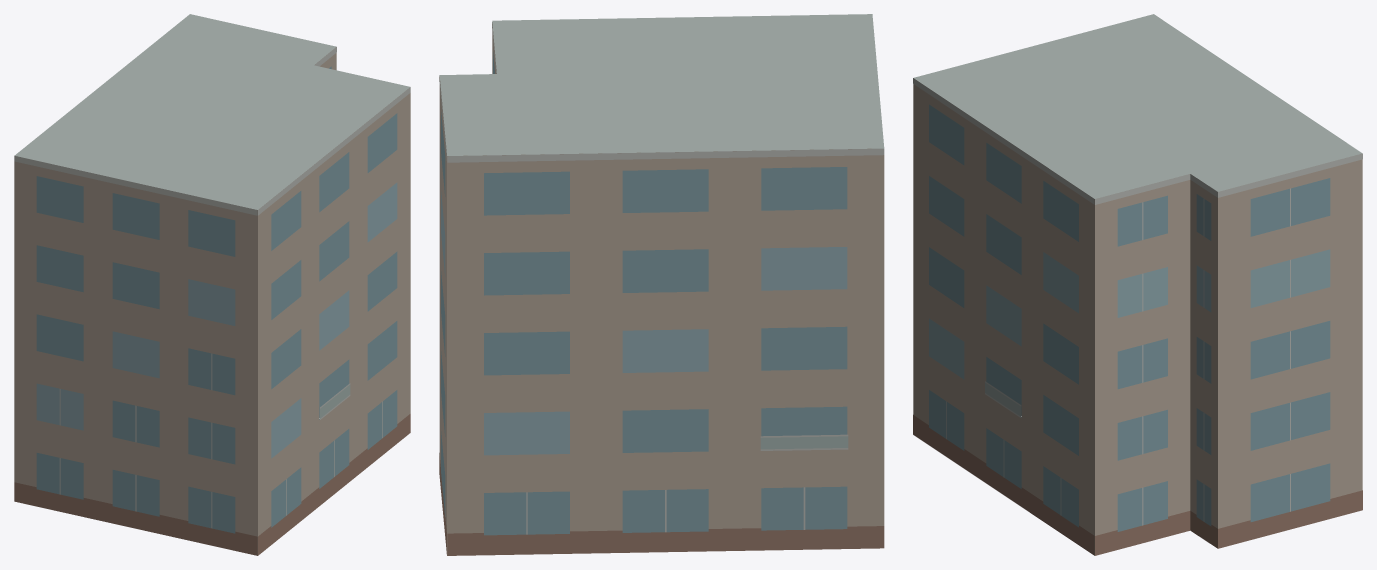
File: survey-upis-32719686.glb
The picture shows the model from 3 angles, left to right: view 1: azimuth 30°, elevation 25°; view 2: azimuth 150°, elevation 25°; view 3: azimuth 270°, elevation 25°; orthographic projection. The views are drawn at different scales.
Visible parts, largest first — view 1: survey-upis-32719686.tmp; view 2: survey-upis-32719686.tmp; view 3: survey-upis-32719686.tmp.
Boxes of the visible parts, x1,y1,x2,y2 form: survey-upis-32719686.tmp: [14, 14, 410, 555]; survey-upis-32719686.tmp: [439, 14, 884, 555]; survey-upis-32719686.tmp: [913, 14, 1362, 555].
Size of the model in its own units: 16.37 by 14.7 by 16.8.
